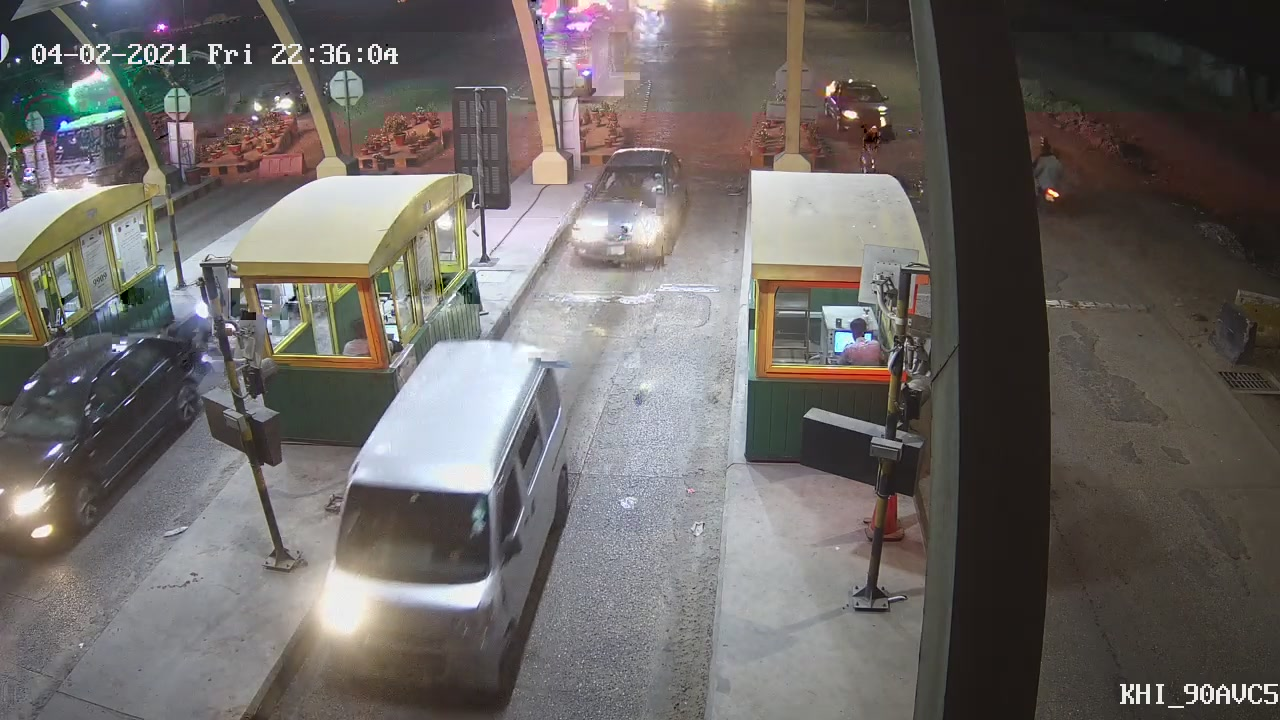F1: (314, 336, 572, 689)
